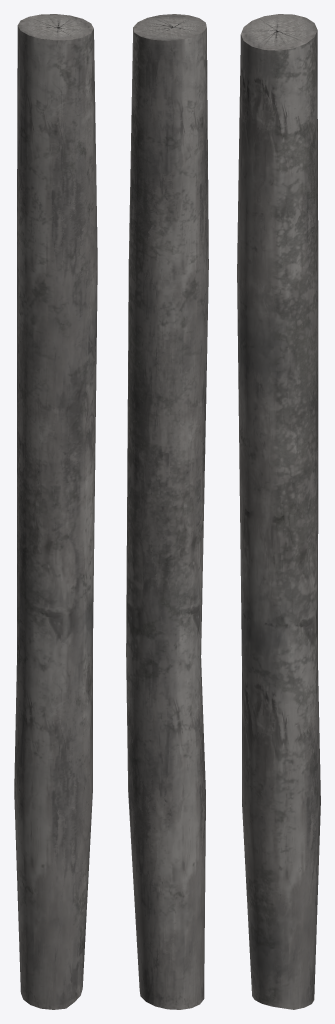
Rendered from SM_SmallPosts_3.fbx.
The picture shows the model from 3 angles, left to right: view 1: azimuth 90°, elevation 25°; view 2: azimuth 150°, elevation 25°; view 3: azimuth 270°, elevation 25°; orthographic projection.
Parts seen in each view (by area): view 1: SM_SmallPosts_3_LOD0; view 2: SM_SmallPosts_3_LOD0; view 3: SM_SmallPosts_3_LOD0.
Boxes of the visible parts, x1=… form: SM_SmallPosts_3_LOD0: x1=14, y1=14, x2=97, y2=1009; SM_SmallPosts_3_LOD0: x1=126, y1=14, x2=208, y2=1009; SM_SmallPosts_3_LOD0: x1=237, y1=14, x2=320, y2=1009.
Bounding box in the file's own units: 14.49 × 14.61 × 187.
